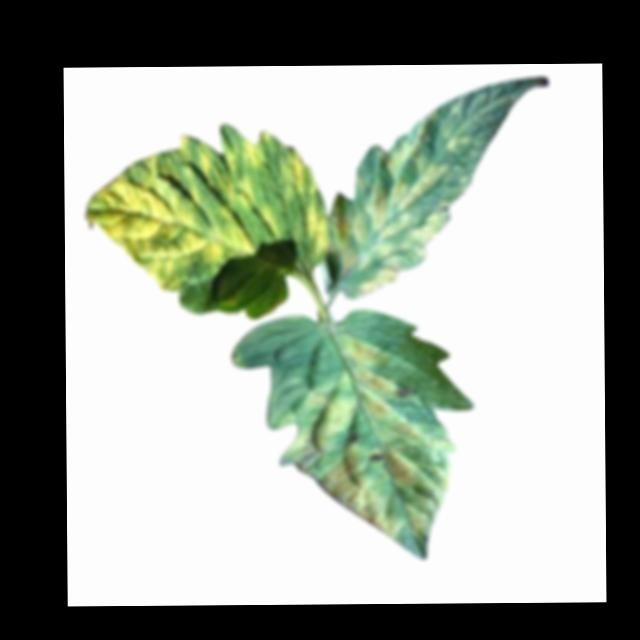Leaf_Mold: (79, 122, 329, 298), (273, 330, 459, 556), (326, 102, 471, 298)
